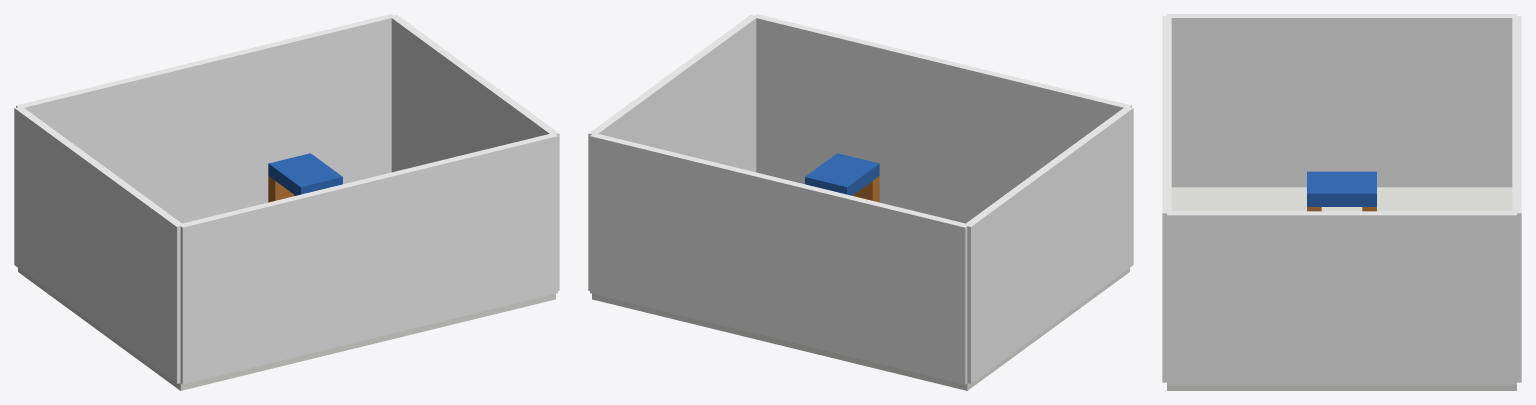
3 views of the same model, side by side, from view 1: azimuth 30°, elevation 25°; view 2: azimuth 150°, elevation 25°; view 3: azimuth 270°, elevation 25° (orthographic). The views are drawn at different scales.
Visible parts, largest first — view 1: wall-wall-c, wall-wall-a, wall-wall-d, wall-wall-b, floor-1, mesh_1; view 2: wall-wall-a, wall-wall-c, wall-wall-d, wall-wall-b, floor-1, mesh_1; view 3: wall-wall-b, wall-wall-d, floor-1, wall-wall-a, wall-wall-c, mesh_1.
Boxes of the visible parts, x1=… form: wall-wall-c: x1=179, y1=134, x2=557, y2=384; wall-wall-a: x1=16, y1=14, x2=394, y2=223; wall-wall-d: x1=14, y1=106, x2=183, y2=383; wall-wall-b: x1=390, y1=14, x2=559, y2=290; floor-1: x1=18, y1=268, x2=555, y2=390; mesh_1: x1=268, y1=153, x2=342, y2=195; wall-wall-a: x1=590, y1=133, x2=969, y2=384; wall-wall-c: x1=753, y1=14, x2=1131, y2=223; wall-wall-d: x1=964, y1=106, x2=1133, y2=383; wall-wall-b: x1=588, y1=14, x2=757, y2=290; floor-1: x1=592, y1=268, x2=1129, y2=390; mesh_1: x1=805, y1=153, x2=879, y2=195; wall-wall-b: x1=1167, y1=211, x2=1516, y2=384; wall-wall-d: x1=1167, y1=14, x2=1516, y2=187; floor-1: x1=1167, y1=187, x2=1516, y2=390; wall-wall-a: x1=1512, y1=16, x2=1521, y2=382; wall-wall-c: x1=1162, y1=16, x2=1171, y2=382; mesh_1: x1=1307, y1=171, x2=1376, y2=206.
Size of the model in its own units: 8.16 by 3.36 by 6.16.
